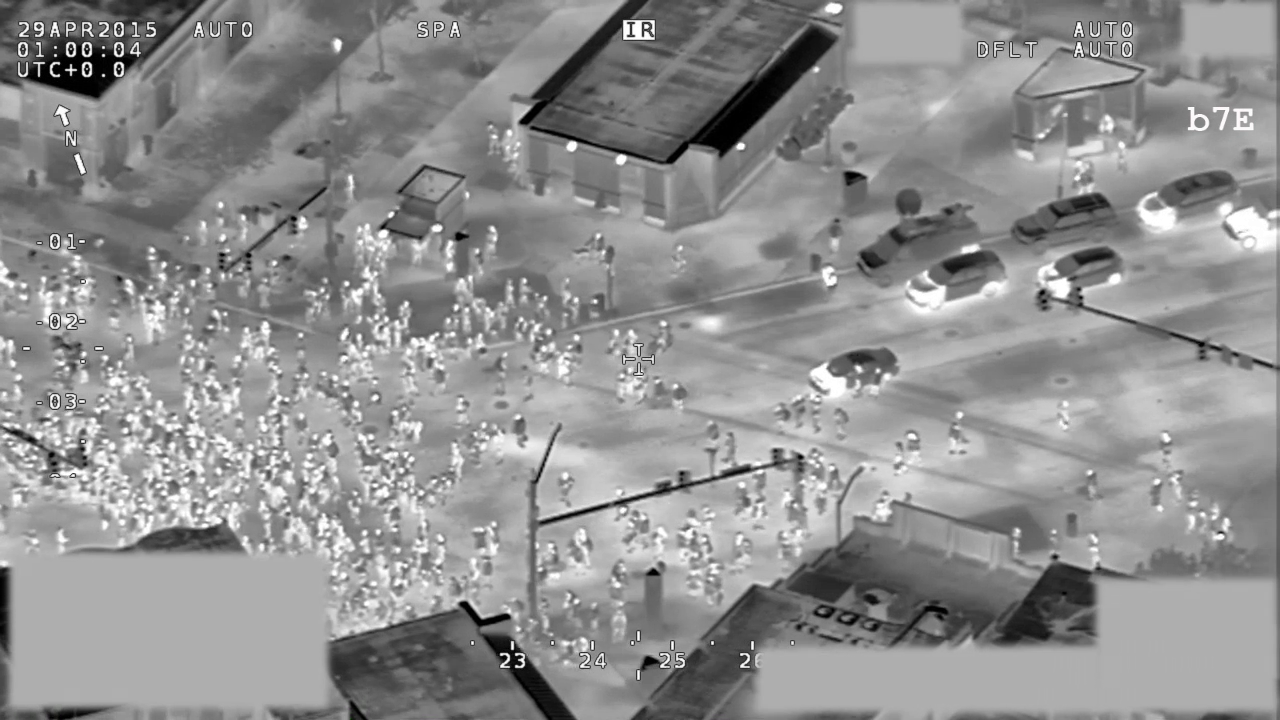vehicle: (855, 186, 984, 291), (1135, 169, 1247, 232), (900, 248, 1008, 312), (1011, 191, 1121, 247), (1031, 244, 1129, 299), (807, 345, 901, 401)
